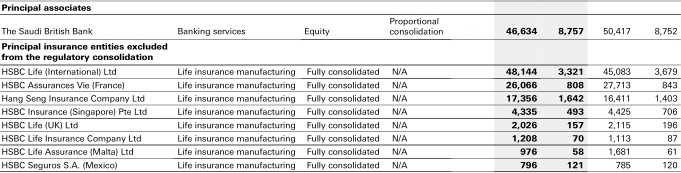column: (1, 1, 168, 173), (177, 2, 295, 173), (305, 1, 380, 173), (390, 1, 444, 173), (505, 2, 539, 173), (558, 1, 585, 173), (604, 1, 630, 173), (654, 1, 677, 173)
row: (1, 17, 679, 26), (1, 4, 681, 12), (1, 54, 681, 62), (1, 68, 681, 76), (1, 121, 681, 129), (1, 28, 681, 35), (1, 43, 681, 50), (1, 82, 681, 89), (1, 95, 681, 102), (1, 108, 681, 115), (1, 135, 681, 142), (1, 148, 681, 155), (1, 162, 681, 169)
